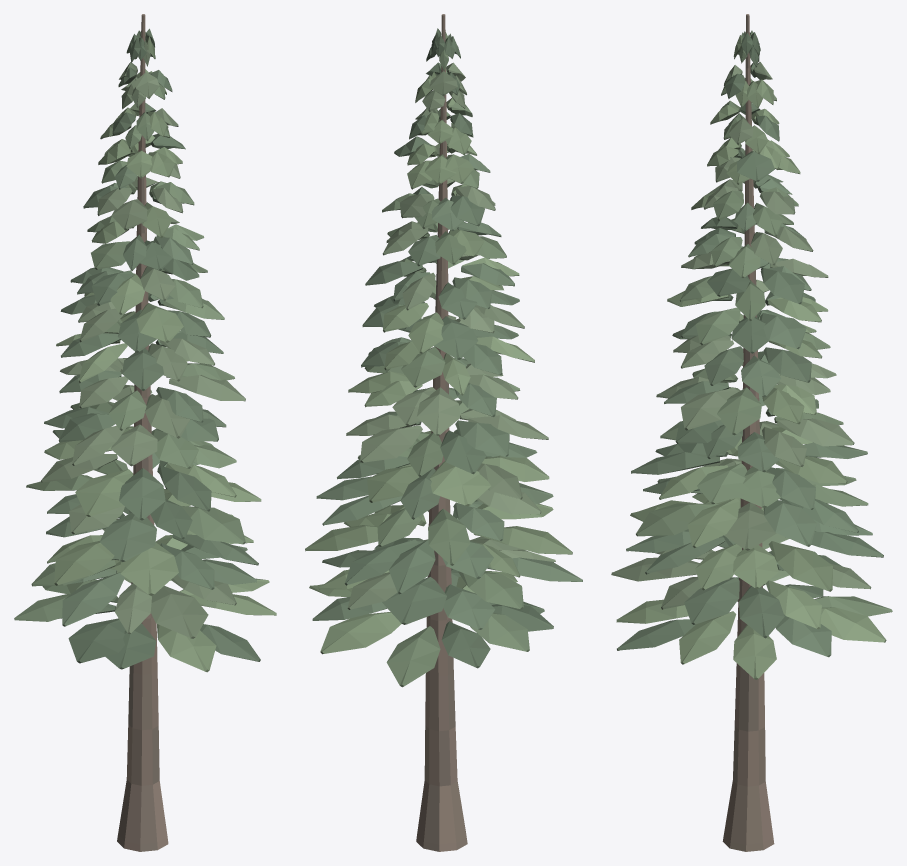
Rendered from pine_tree_001_a_LOD1.gltf.
The picture shows the model from 3 angles, left to right: view 1: azimuth 30°, elevation 25°; view 2: azimuth 150°, elevation 25°; view 3: azimuth 270°, elevation 25°; orthographic projection.
Parts seen in each view (by area): view 1: pine_tree_001_a_LOD1; view 2: pine_tree_001_a_LOD1; view 3: pine_tree_001_a_LOD1.
Boxes of the visible parts, bbox=[...] form: pine_tree_001_a_LOD1: bbox=[14, 14, 276, 851]; pine_tree_001_a_LOD1: bbox=[305, 14, 582, 851]; pine_tree_001_a_LOD1: bbox=[611, 14, 892, 851].
Bounding box in the file's own units: 6.87 × 22.64 × 6.99.
